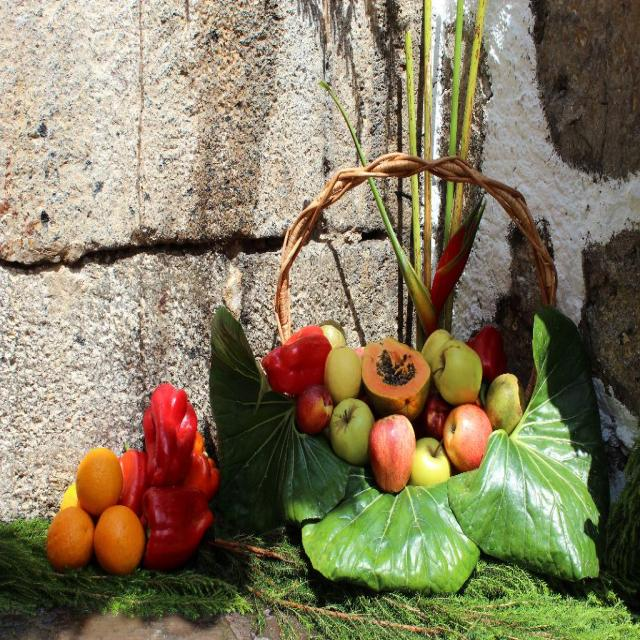Healty Apple: (374, 416, 421, 491), (443, 403, 492, 471), (433, 339, 482, 405), (328, 399, 374, 466), (412, 435, 454, 486), (324, 345, 360, 402), (297, 384, 333, 436), (419, 328, 452, 372), (425, 394, 448, 436)
